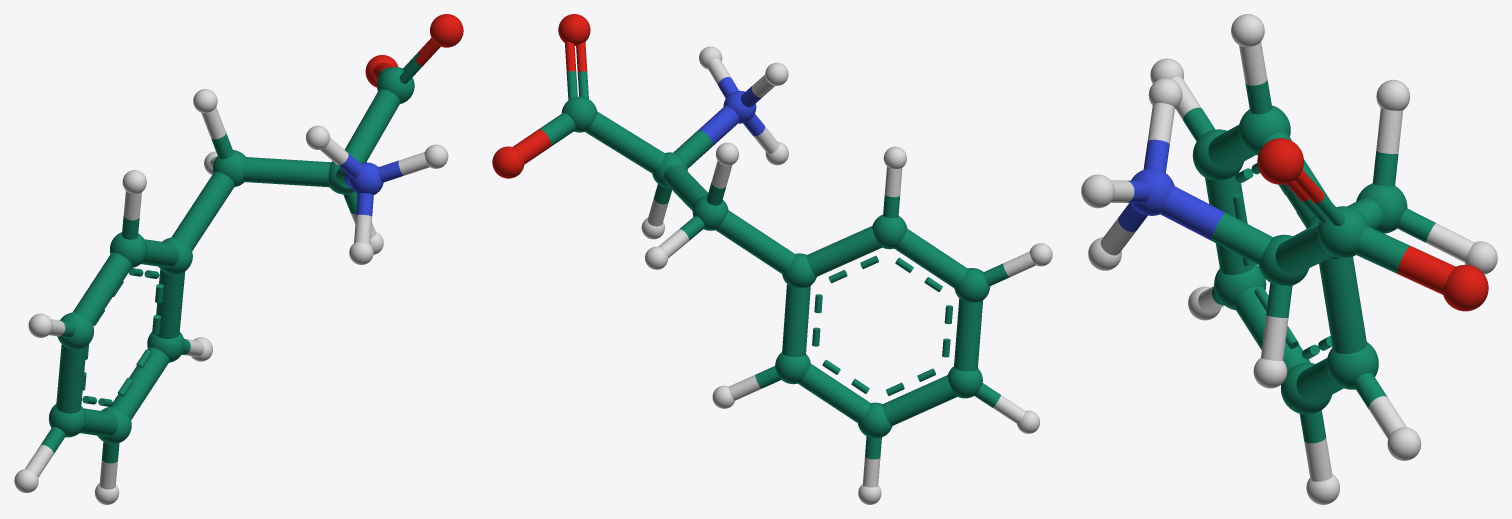
File: PHE.PDB.glb
3 views of the same model, side by side, from view 1: azimuth 30°, elevation 25°; view 2: azimuth 150°, elevation 25°; view 3: azimuth 270°, elevation 25° (orthographic). The views are drawn at different scales.
Size of the model in its own units: 7.42 by 6.28 by 4.07.
